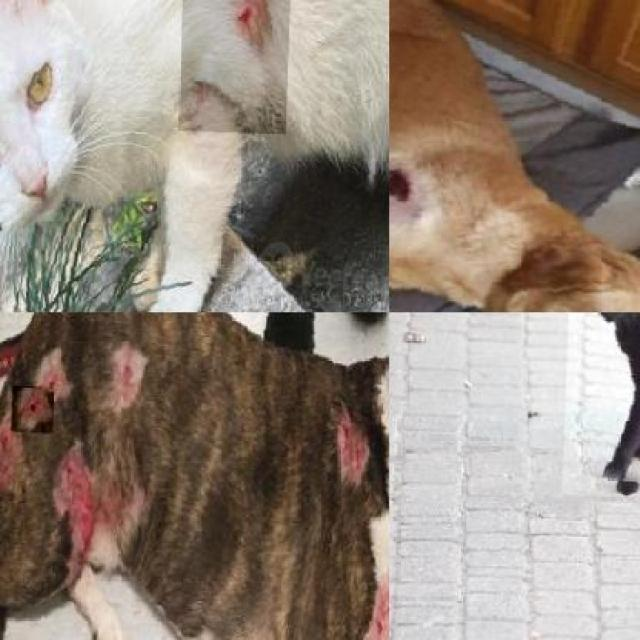cat: (0, 0, 389, 312)
dog: (0, 312, 389, 640), (389, 0, 640, 312)
injured: (177, 0, 292, 134), (28, 472, 118, 606), (93, 345, 122, 449), (389, 146, 423, 234), (318, 406, 358, 474), (12, 386, 54, 434), (369, 554, 389, 640), (0, 443, 12, 521)
